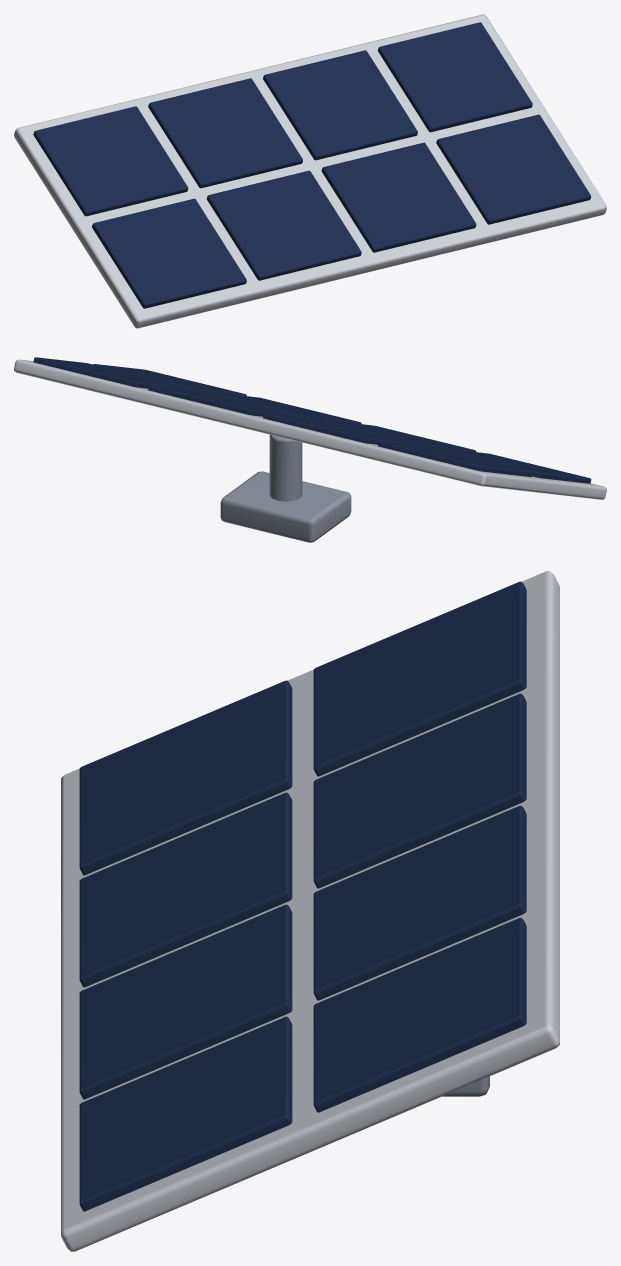
Rendered from Part_SolarPanel.glb.
The picture shows the model from 3 angles, top to bottom: view 1: azimuth 30°, elevation 25°; view 2: azimuth 150°, elevation 25°; view 3: azimuth 270°, elevation 25°; orthographic projection. The views are drawn at different scales.
Parts seen in each view (by area): view 1: Part_SolarPanel.Panel; view 2: Part_SolarPanel.Panel, Part_SolarPanel.Mount; view 3: Part_SolarPanel.Panel.
Part boxes in pixels (left/top/right/bottom): Part_SolarPanel.Panel: left=14, top=14, right=606, bottom=328; Part_SolarPanel.Panel: left=14, top=357, right=606, bottom=499; Part_SolarPanel.Mount: left=220, top=434, right=351, bottom=542; Part_SolarPanel.Panel: left=61, top=571, right=559, bottom=1251.
Size of the model in its own units: 2 by 0.5204 by 0.9177.
Materials: 1 (1 with a texture image).
